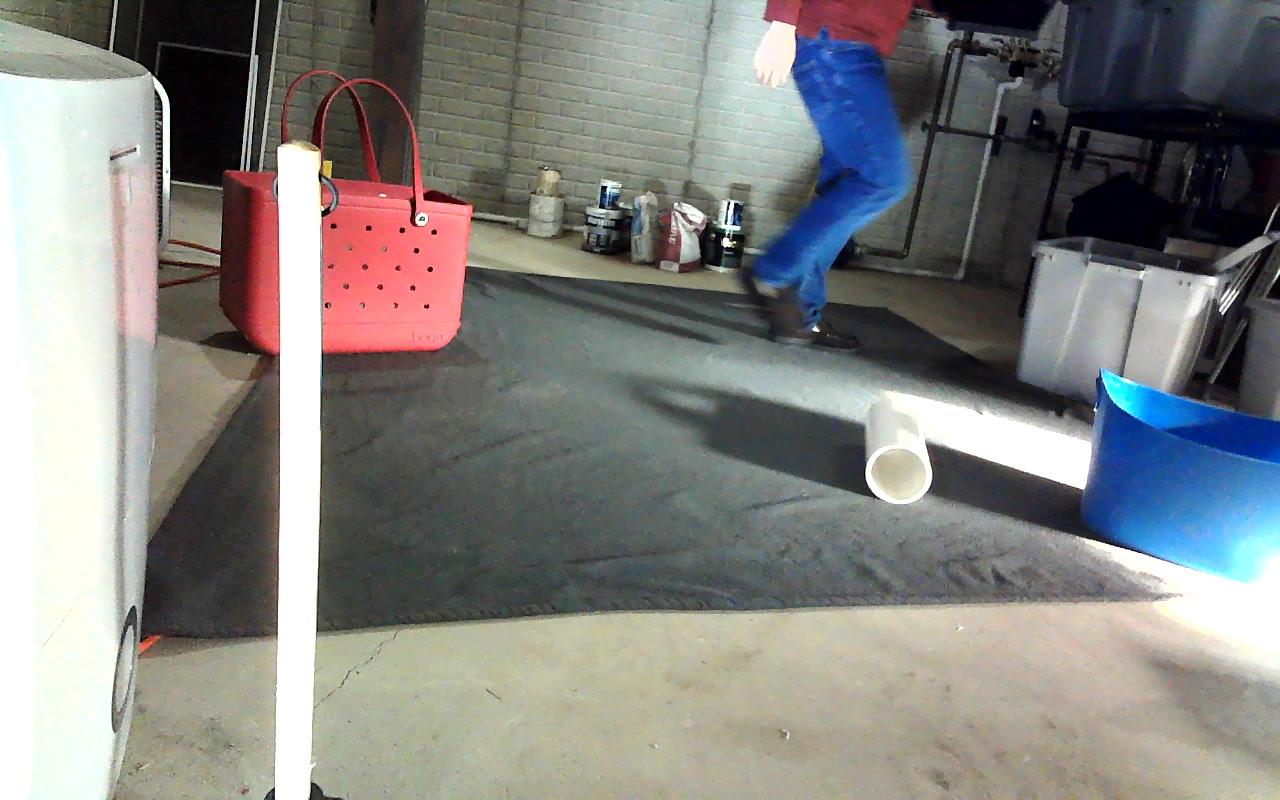coral: (862, 395, 931, 503)
